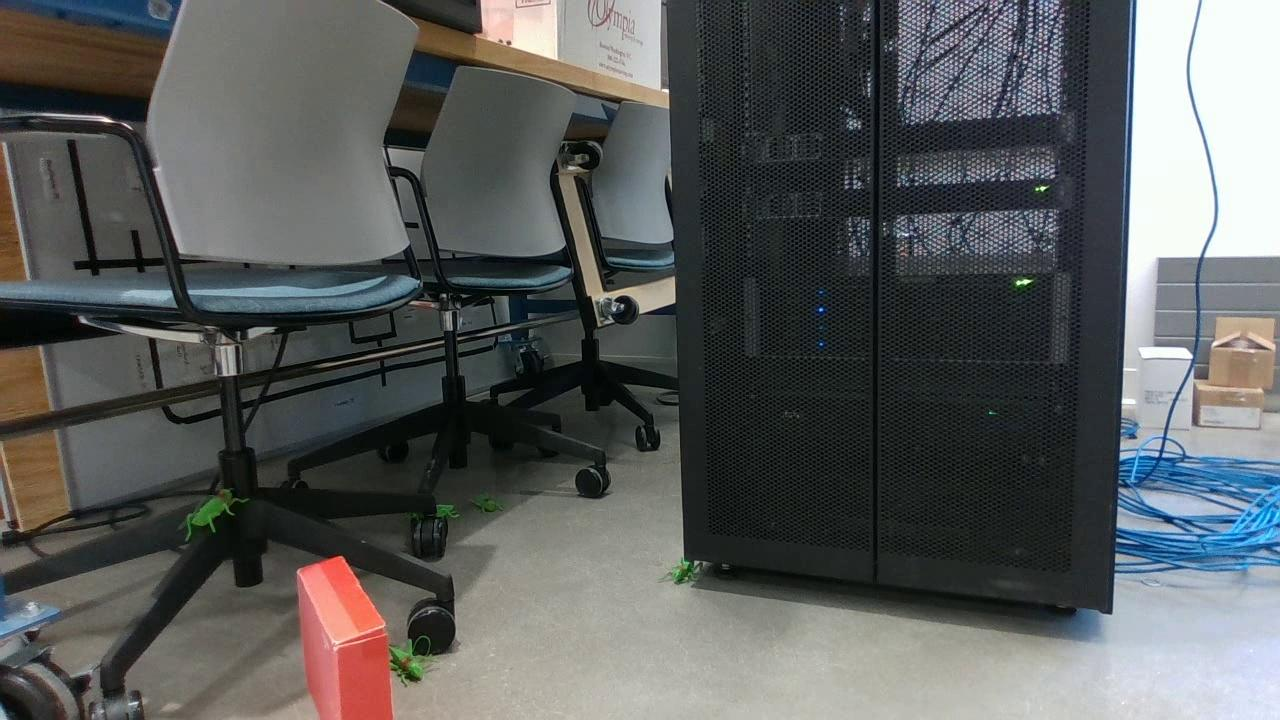grasshopper: (180, 487, 251, 540), (376, 637, 436, 684), (656, 547, 705, 586), (398, 500, 462, 516), (469, 493, 505, 513)
